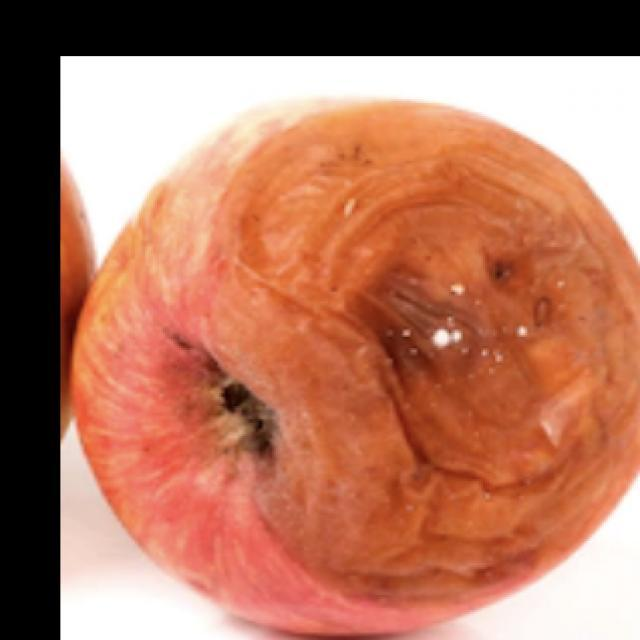Rotten: (72, 98, 640, 640)
